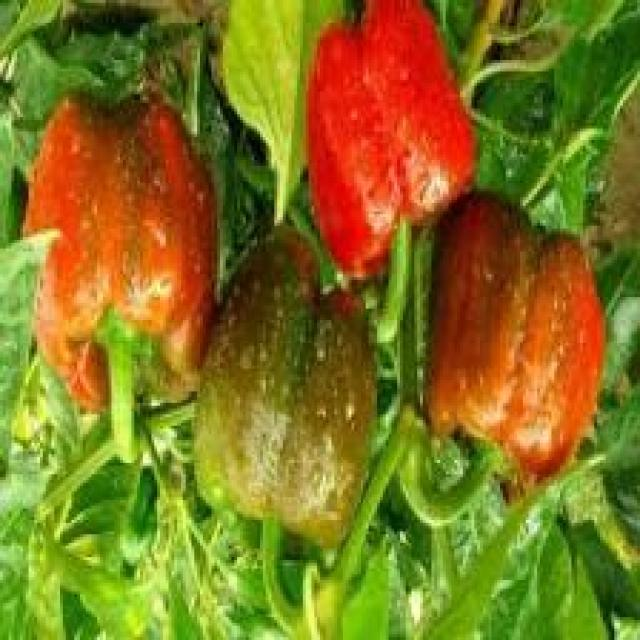Pepper: (23, 100, 209, 417), (191, 240, 377, 551), (426, 194, 603, 480), (306, 3, 477, 277)
